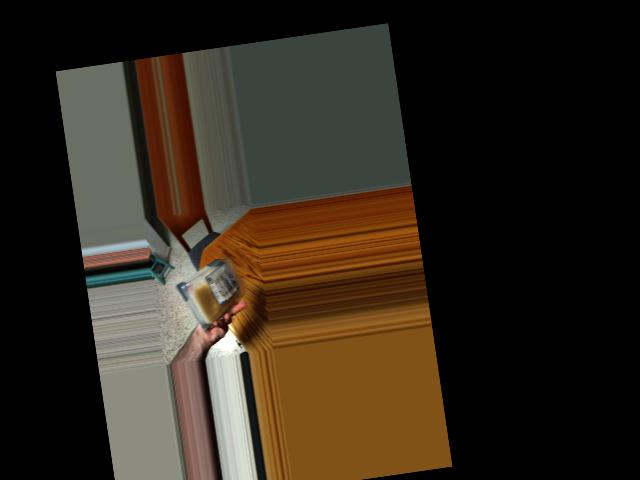cheese: (173, 256, 244, 316)
